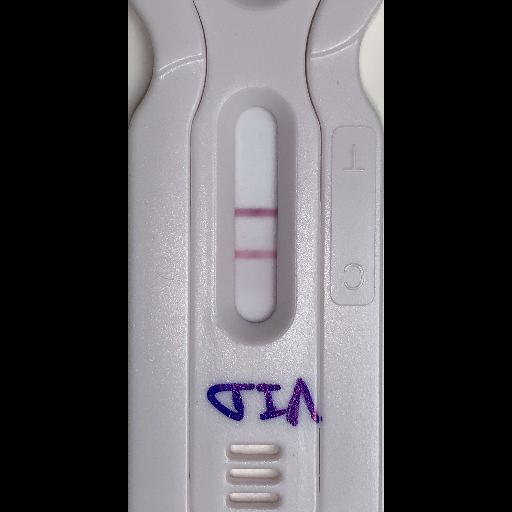Pos: (129, 0, 384, 511)
